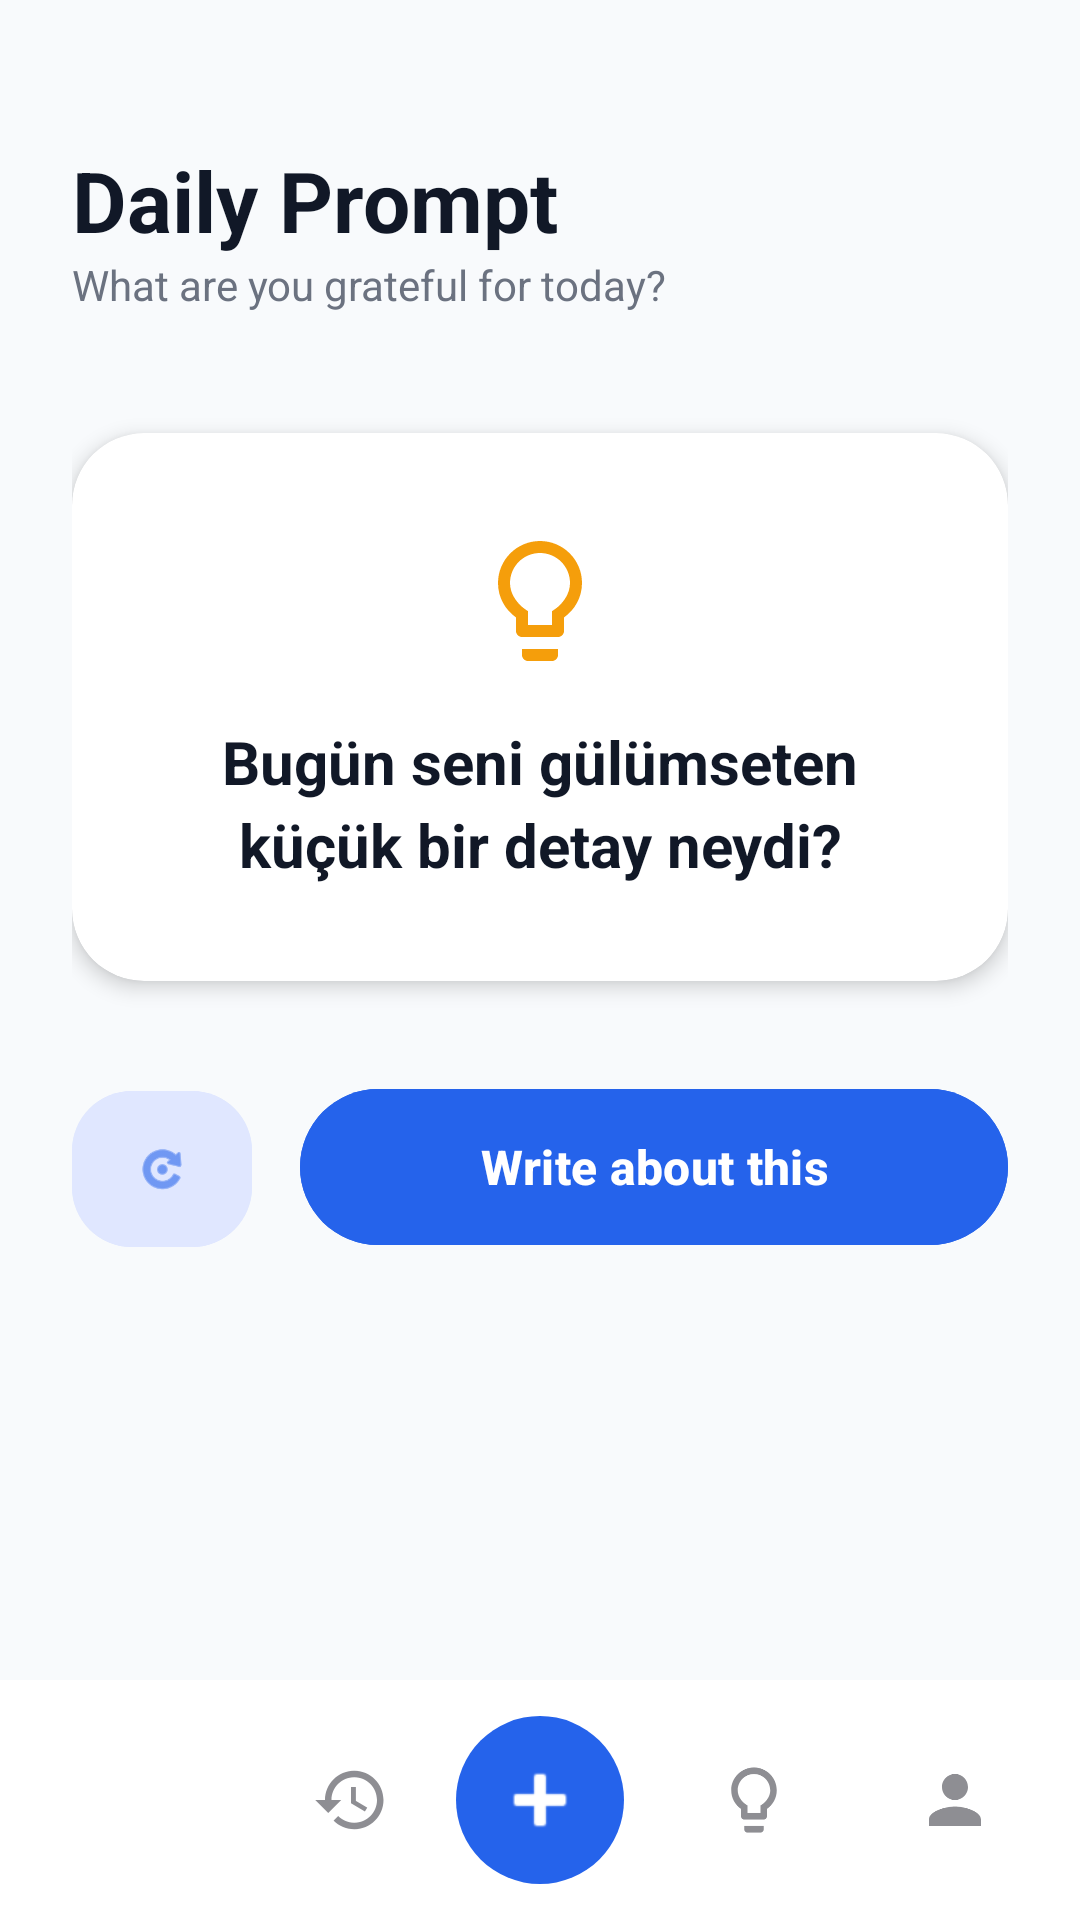

Where to tap for icons on this 1080px×1920px app screen, as (x=x, y=y):
add: (x=540, y=1818)
rotate: (x=162, y=1169)
